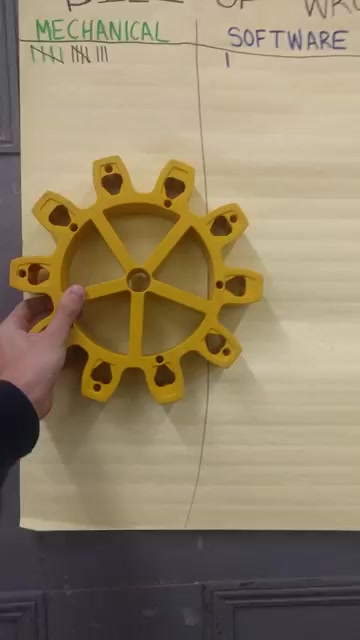gear: (7, 158, 268, 416)
